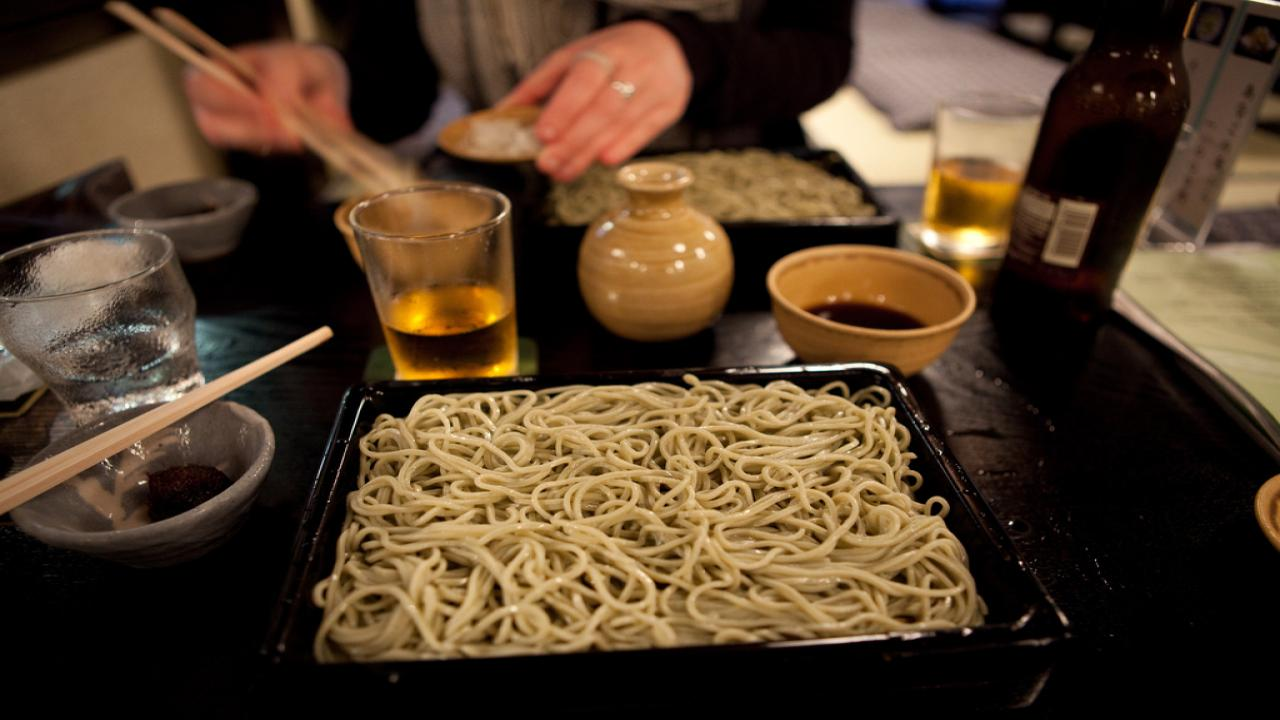chopstick: (0, 329, 335, 508), (111, 0, 403, 196)
